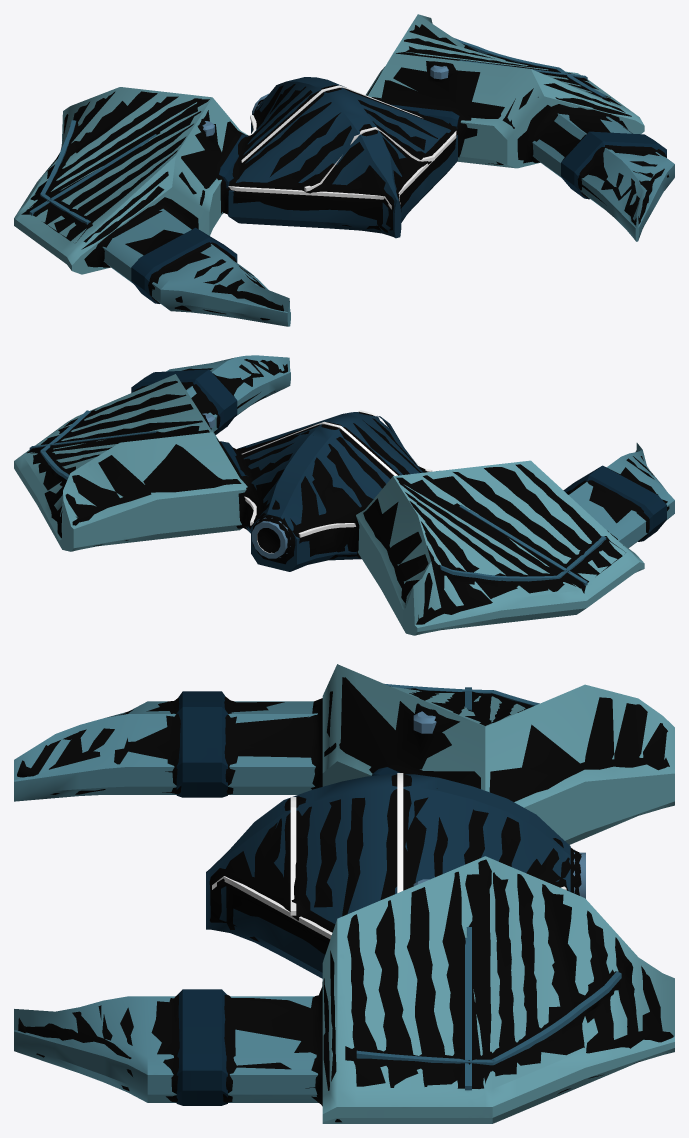
Rendered from protron-cannon-indigo.glb.
3 renders of one model, top to bottom at view 1: azimuth 30°, elevation 25°; view 2: azimuth 150°, elevation 25°; view 3: azimuth 270°, elevation 25°, orthographic. The views are drawn at different scales.
Visible parts, largest first — view 1: sidekick-protron-cannon-indigo_A, sidekick-protron-cannon-indigo_A_outline; view 2: sidekick-protron-cannon-indigo_A, sidekick-protron-cannon-indigo_A_outline; view 3: sidekick-protron-cannon-indigo_A, sidekick-protron-cannon-indigo_A_outline.
Part boxes in pixels (bbox=[...]): sidekick-protron-cannon-indigo_A: bbox=[14, 14, 674, 326]; sidekick-protron-cannon-indigo_A_outline: bbox=[21, 24, 668, 320]; sidekick-protron-cannon-indigo_A: bbox=[14, 355, 674, 635]; sidekick-protron-cannon-indigo_A_outline: bbox=[27, 359, 669, 629]; sidekick-protron-cannon-indigo_A: bbox=[14, 664, 674, 1123]; sidekick-protron-cannon-indigo_A_outline: bbox=[17, 677, 673, 1122].
Size of the model in its own units: 1.67 by 0.2817 by 1.13.
Materials: 9 (7 with a texture image).
